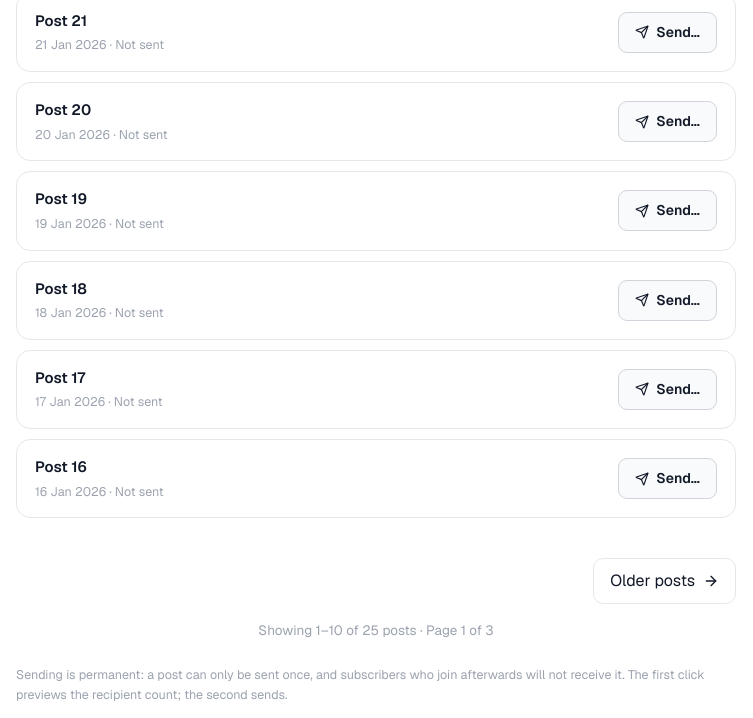
Test case: AdminClient post list › pages through the whole archive without losing a post
(page scrolled)
Click the button "Older posts" at point(665, 581), box top-left (593, 558), bottom-right (736, 604)
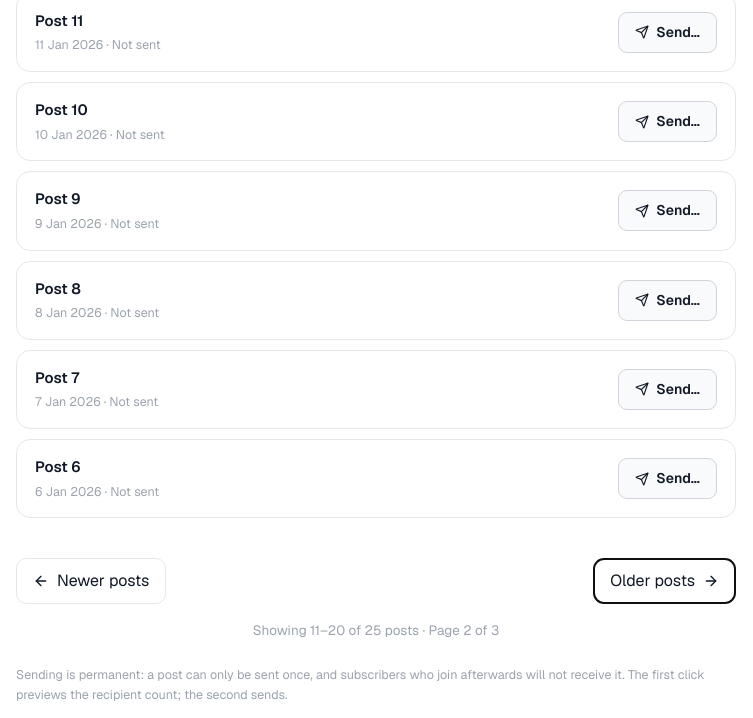
Click the button "Older posts" at point(665, 581), box top-left (593, 558), bottom-right (736, 604)
(page scrolled)
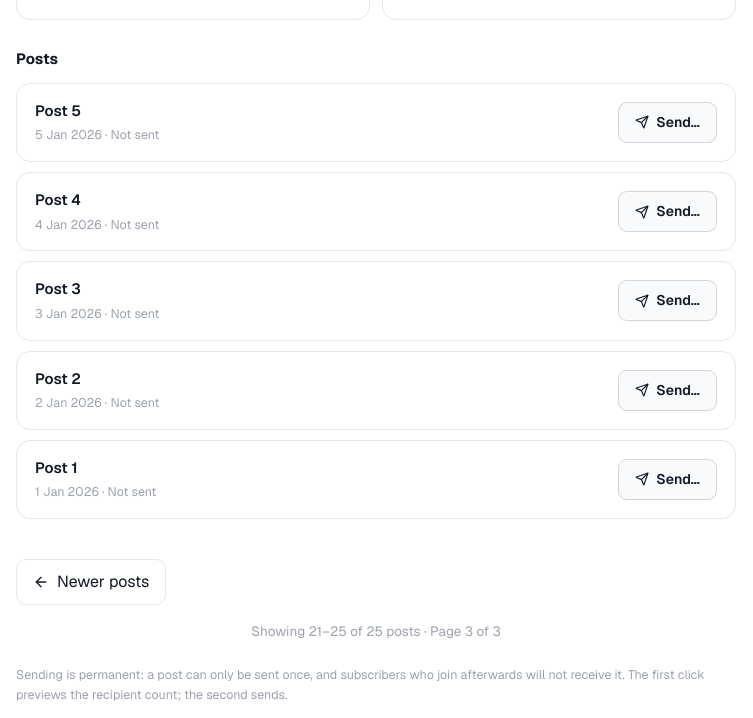
Check: the text "Showing 21–25 of 25 posts · Page 3 of 3" is shown, box top-left (251, 622), bottom-right (501, 640)
Check: the button "Older" is gone
